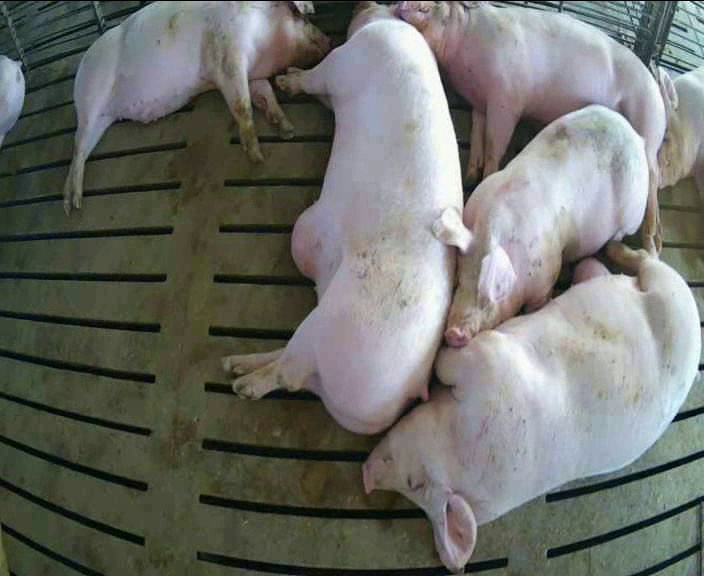pig: (365, 235, 699, 569), (223, 2, 462, 433), (397, 2, 665, 235), (65, 2, 328, 211), (431, 105, 648, 345), (649, 64, 703, 196)
